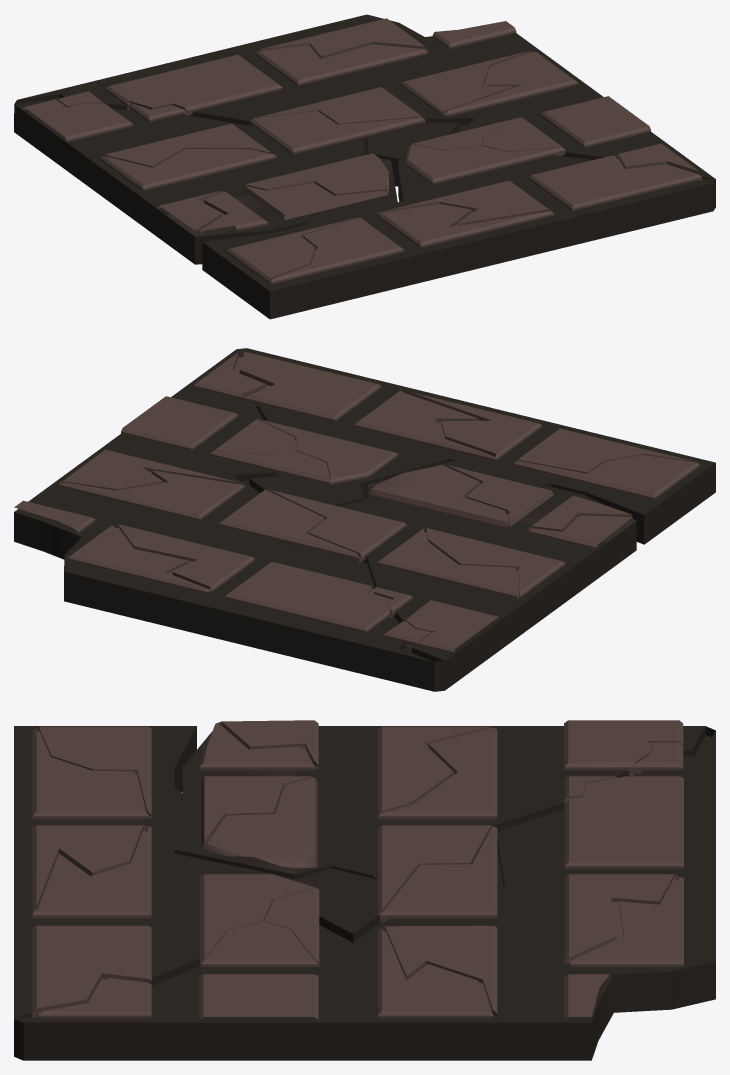
The model's file is Pared rota v1.fbx.
The picture shows the model from 3 angles, top to bottom: view 1: azimuth 30°, elevation 25°; view 2: azimuth 150°, elevation 25°; view 3: azimuth 270°, elevation 25°; orthographic projection. The views are drawn at different scales.
Parts seen in each view (by area): view 1: polySurface266; view 2: polySurface266; view 3: polySurface266.
Part boxes in pixels (x1,y1,x2,y2): polySurface266: [14, 14, 715, 319]; polySurface266: [14, 348, 715, 691]; polySurface266: [14, 720, 715, 1060].
Size of the model in its own units: 2.99 by 0.2072 by 2.99.
